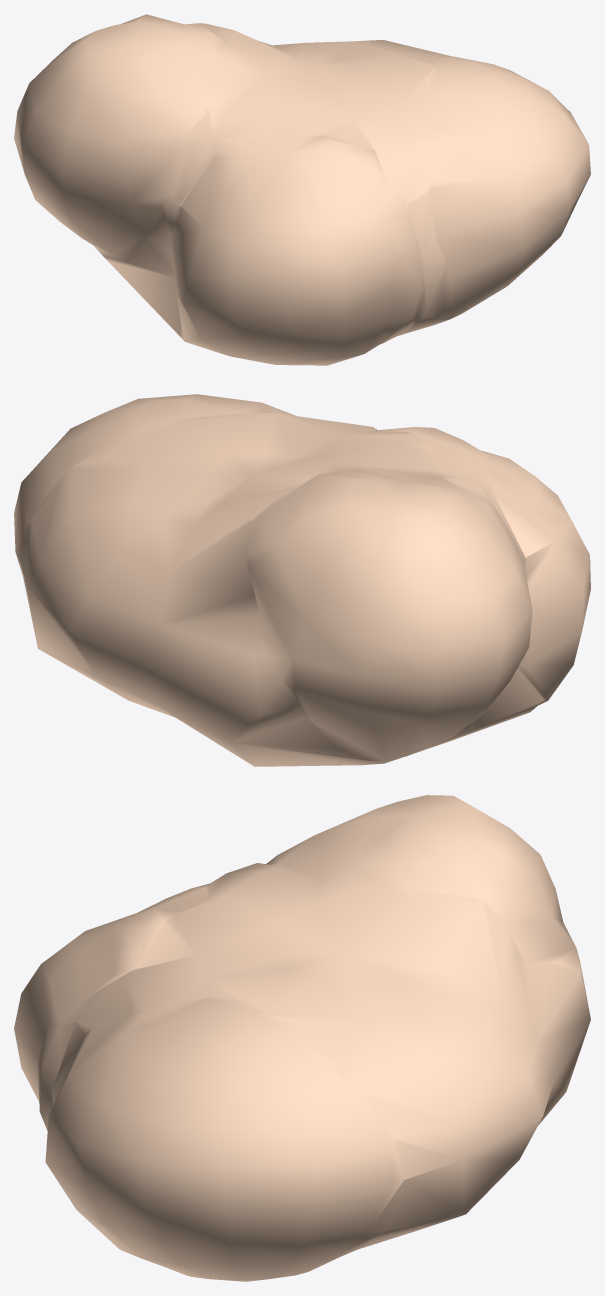
File: pegoteresina.fbx
3 renders of one model, top to bottom at view 1: azimuth 30°, elevation 25°; view 2: azimuth 150°, elevation 25°; view 3: azimuth 270°, elevation 25°, orthographic. The views are drawn at different scales.
Parts seen in each view (by area): view 1: pegoteresina; view 2: pegoteresina; view 3: pegoteresina.
Boxes of the visible parts, x1,y1,x2,y2 form: pegoteresina: (14, 14, 590, 365); pegoteresina: (14, 394, 590, 766); pegoteresina: (14, 795, 590, 1281).
Size of the model in its own units: 53.39 by 29.57 by 45.28.
